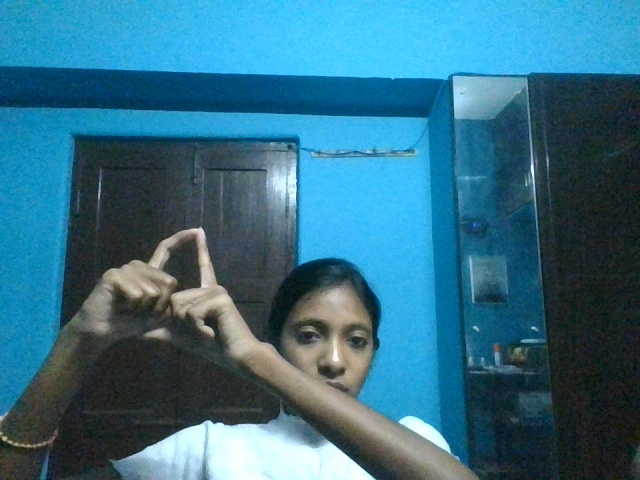D: (65, 221, 247, 360)
